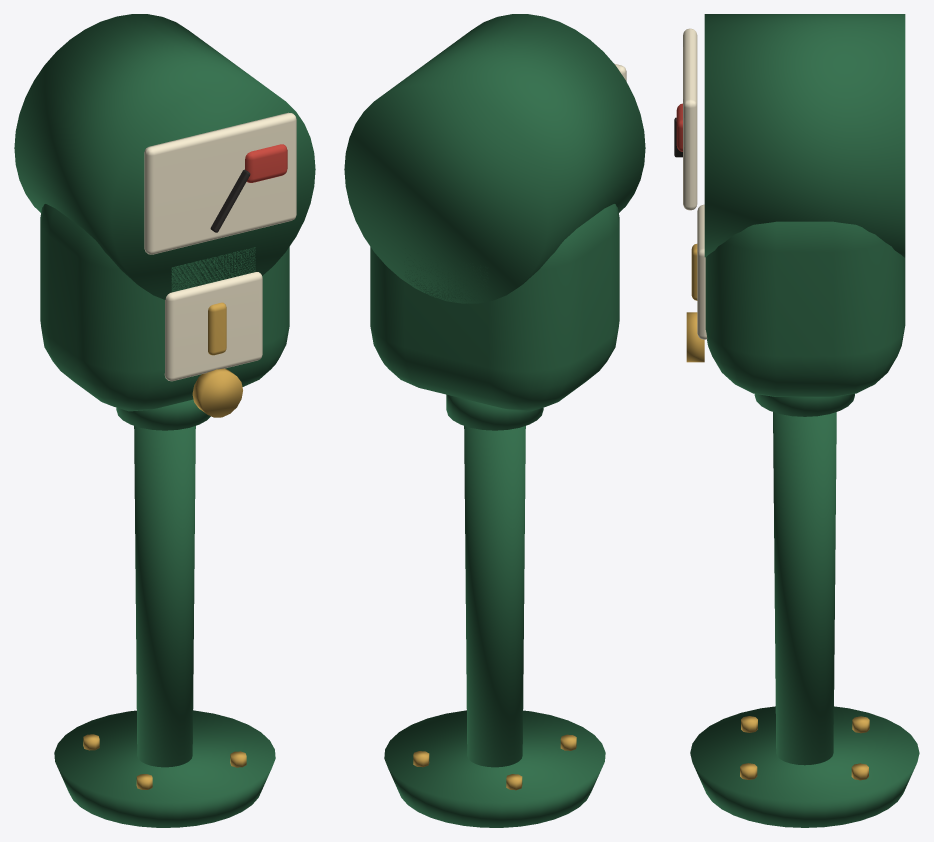
The model's file is street_meter.glb.
3 renders of one model, left to right at view 1: azimuth 30°, elevation 25°; view 2: azimuth 150°, elevation 25°; view 3: azimuth 270°, elevation 25°, orthographic. The views are drawn at different scales.
Visible parts, largest first — view 1: Dome, Head, Post, Foot, Window, CoinPlate, Knob, Collar, Dial, CoinSlot, Needle; view 2: Dome, Head, Post, Foot, Collar; view 3: Dome, Head, Post, Foot, Window, Collar, CoinPlate, Knob.
Part boxes in pixels (x1,y1,x2,y2): Dome: [14, 14, 315, 299]; Head: [40, 204, 289, 411]; Post: [134, 426, 195, 767]; Foot: [54, 710, 275, 827]; Window: [144, 112, 296, 254]; CoinPlate: [164, 272, 262, 381]; Knob: [192, 368, 242, 417]; Collar: [116, 399, 210, 430]; Dial: [245, 144, 287, 182]; CoinSlot: [208, 302, 226, 355]; Needle: [210, 169, 250, 232]; Dome: [344, 14, 645, 303]; Head: [370, 204, 619, 411]; Post: [464, 426, 525, 767]; Foot: [384, 710, 605, 827]; Collar: [446, 394, 543, 430]; Dome: [704, 14, 905, 257]; Head: [705, 221, 905, 396]; Post: [773, 412, 836, 765]; Foot: [690, 706, 919, 827]; Window: [683, 28, 697, 210]; Collar: [754, 394, 854, 416]; CoinPlate: [697, 204, 707, 339]; Knob: [686, 312, 704, 362].
Bounding box in the file's own units: 0.3255 × 1.12 × 0.3274.
